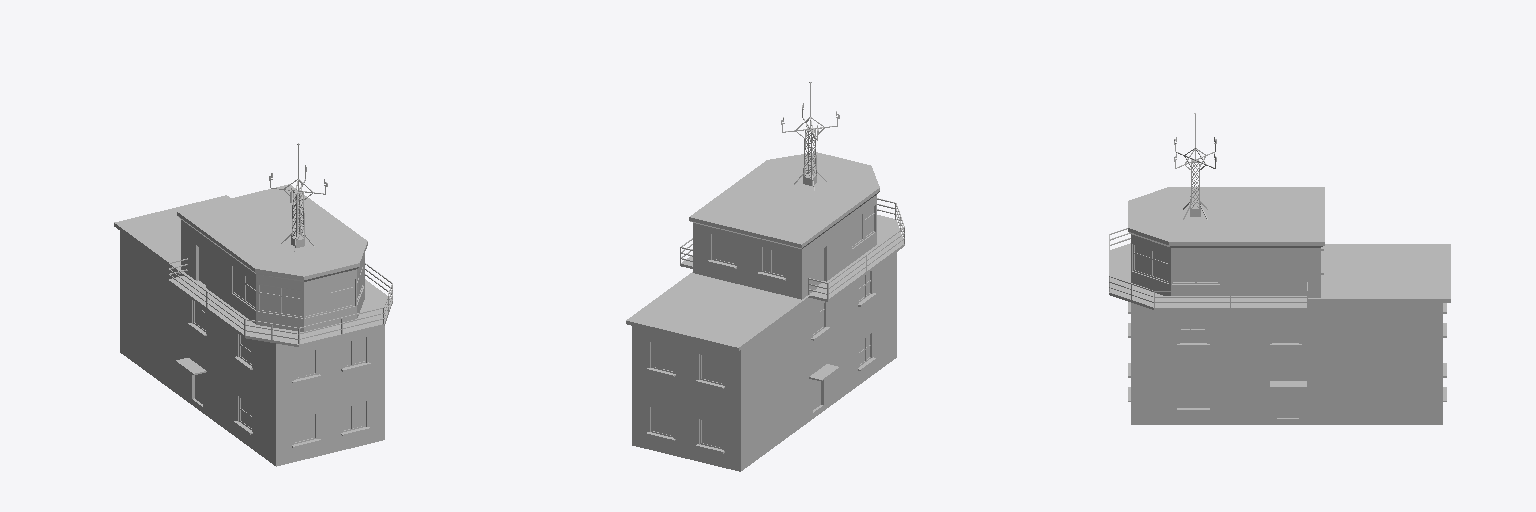
File: tower1.obj
3 renders of one model, left to right at view 1: azimuth 30°, elevation 25°; view 2: azimuth 150°, elevation 25°; view 3: azimuth 270°, elevation 25°, orthographic.
Parts seen in each view (by area): view 1: tower, tower.001; view 2: tower, tower.001; view 3: tower, tower.001.
Boxes of the visible parts, <box> form: tower: <box>114,143,392,466</box>; tower.001: <box>114,179,392,465</box>; tower: <box>626,82,904,470</box>; tower.001: <box>626,82,904,471</box>; tower: <box>1109,113,1450,424</box>; tower.001: <box>1109,114,1450,424</box>.
Size of the model in its own units: 8.43 by 15.55 by 16.88.